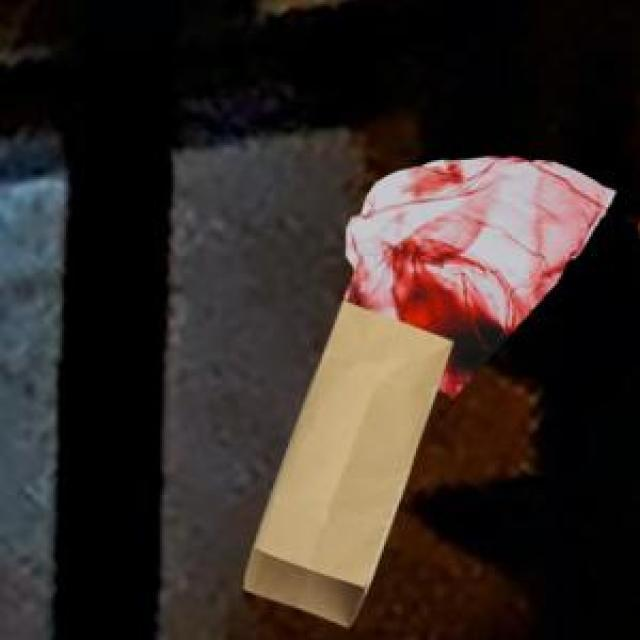paper: (241, 297, 448, 623)
